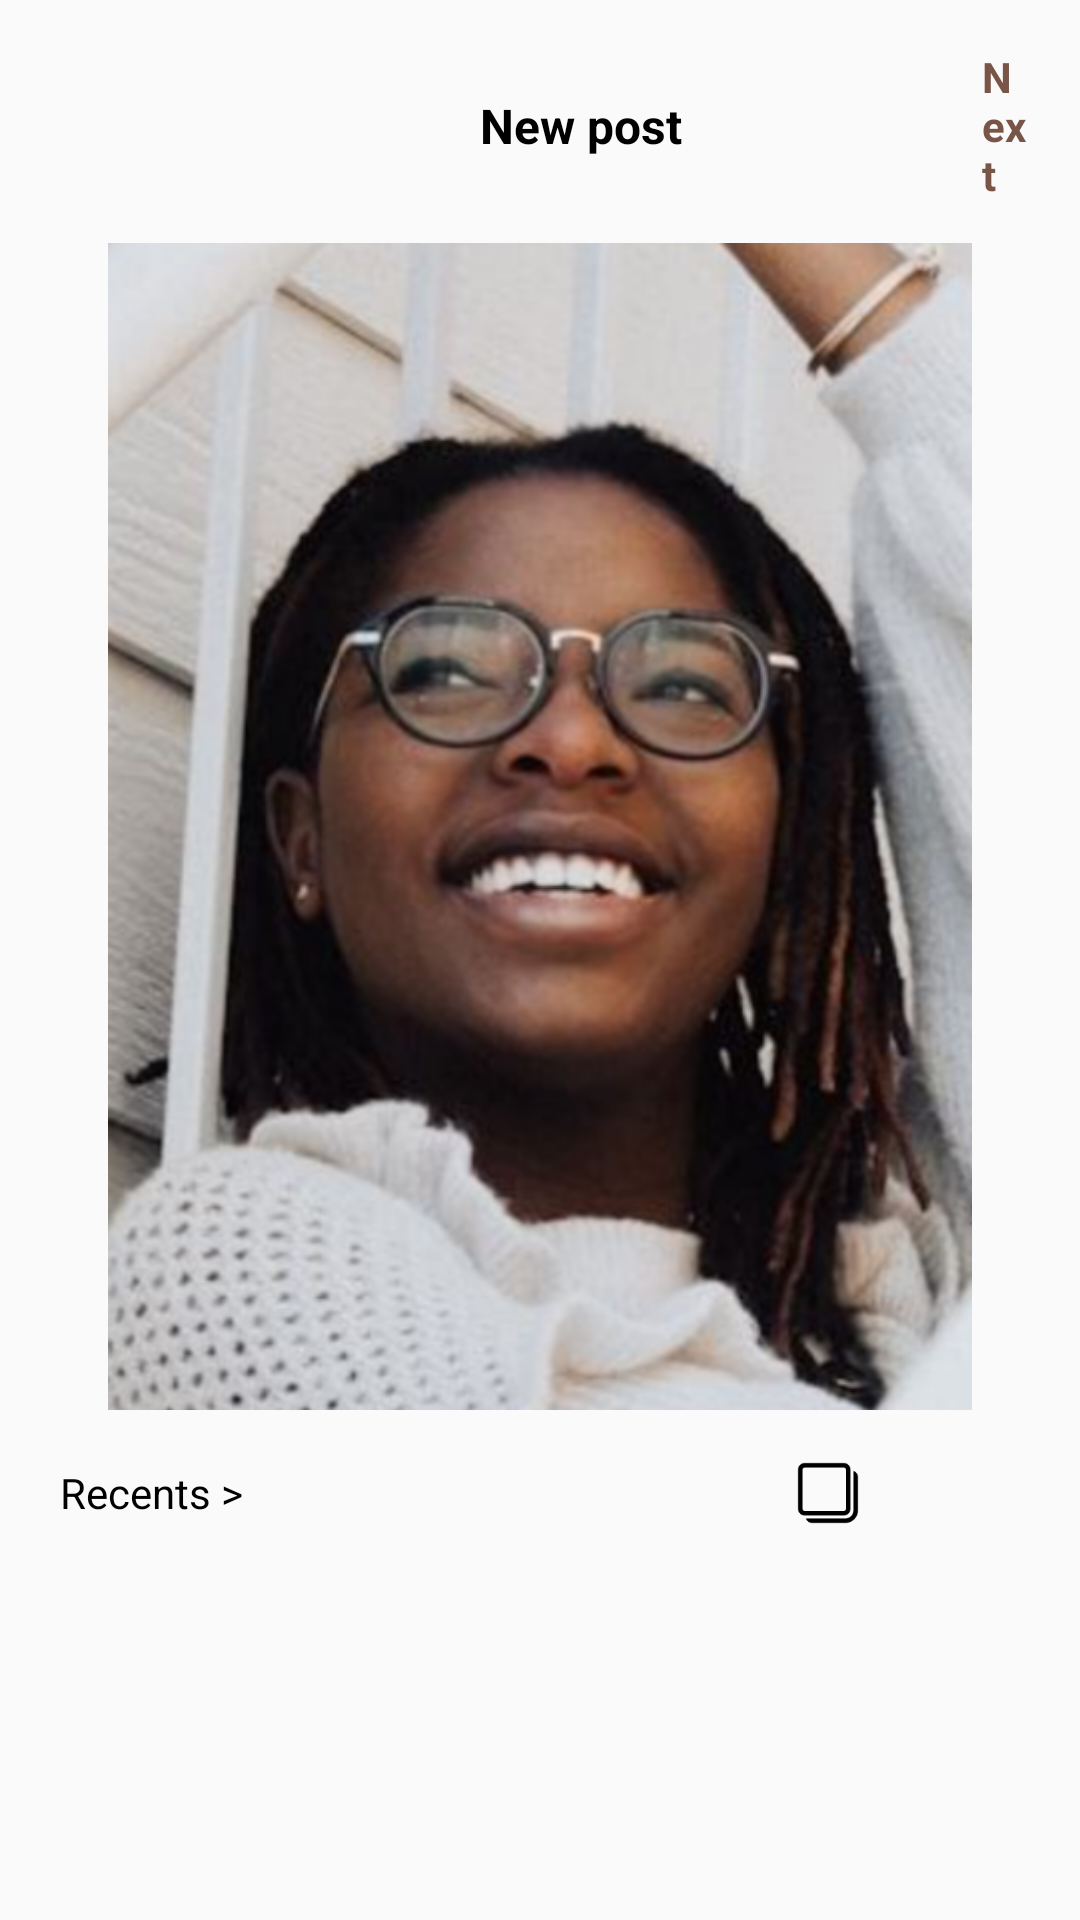

Screen size 1080x1920. Icon name, then its box in pixels as (x1, y1, x2, y2):
multiple: (798, 1463, 858, 1523)
